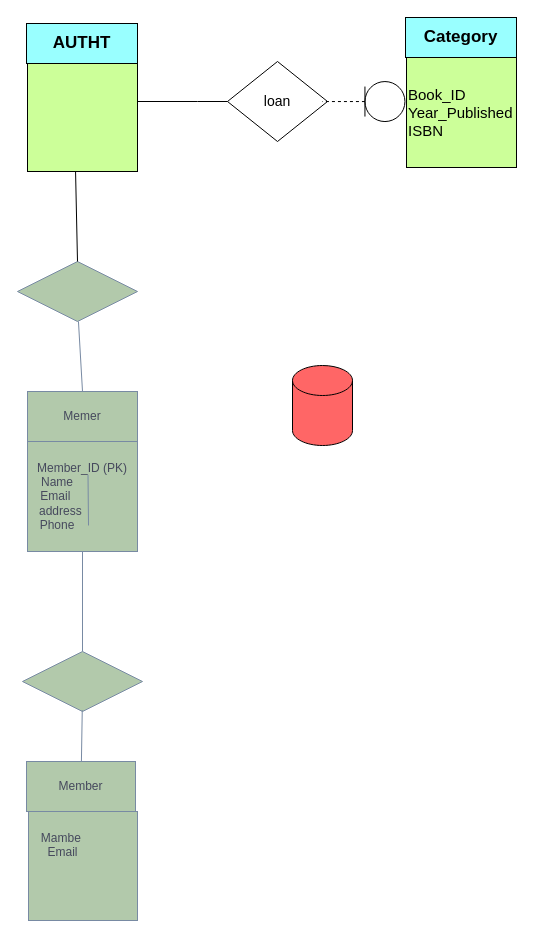
Some shapes in this 534 by 938 pixel diagram are drawn without their labels. Here are the shapes that lost their labels. From the top down, the centre of each, then its label:
the point at 82,116: Author_ID Title Previluublished ISBN
the point at 77,291: Author
the point at 82,681: Arstor
